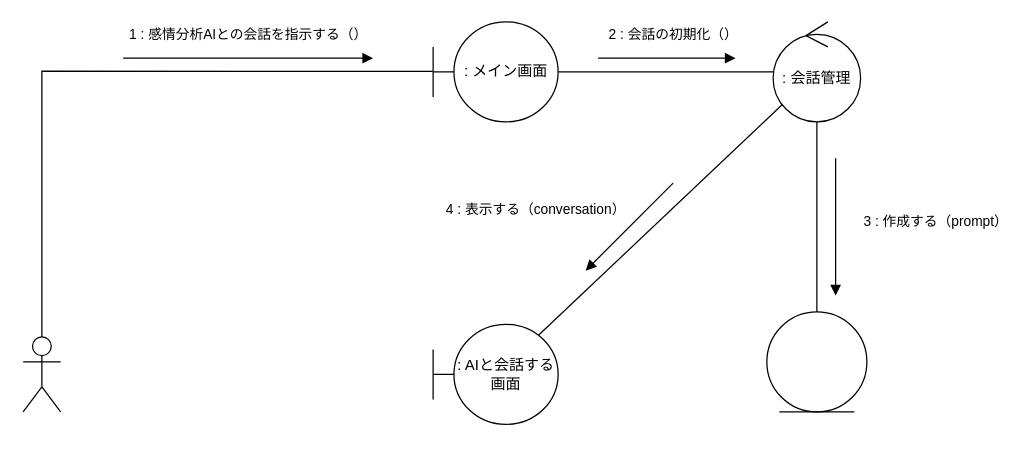
This 1030x460 diagram has some shape labels left out. The shapes that lost their labels are listed below. From the top down, each one's box as (x1, y1, x2, y2) in pixels, then its label:
(22, 336, 61, 412): : User
(766, 311, 867, 412): : Conversation
